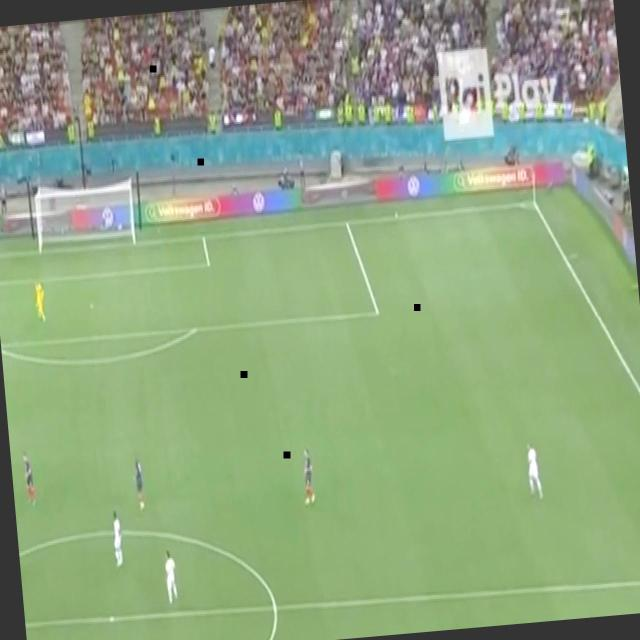player-white: (525, 440, 545, 502), (110, 508, 126, 569), (300, 446, 316, 507), (22, 448, 38, 508), (163, 550, 179, 604), (132, 454, 146, 512), (33, 279, 48, 324)
